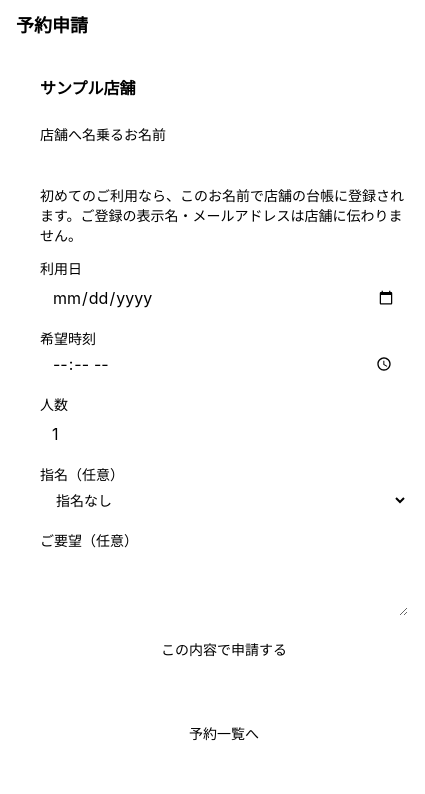
it: MemberReservationNewPage › 利用日を消したら、前の日の取得失敗が送信を塞いだままにならない
Type "2026-08-10" into the date field labelled "利用日" at coordinates (224, 298), box [40,280,408,316]
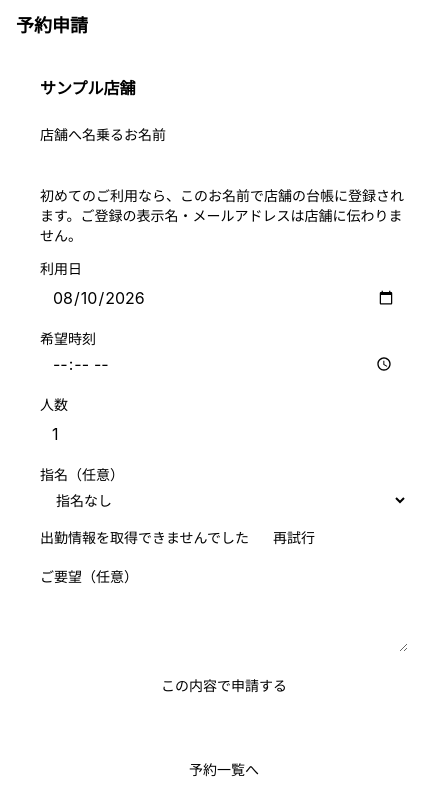
Now the text "出勤情報を取得できませんでした" is shown, box [40,528,249,548]
Now the button "この内容で申請する" is disabled, box [40,668,408,704]
Clear the date field labelled "利用日" at coordinates (224, 298), box [40,280,408,316]
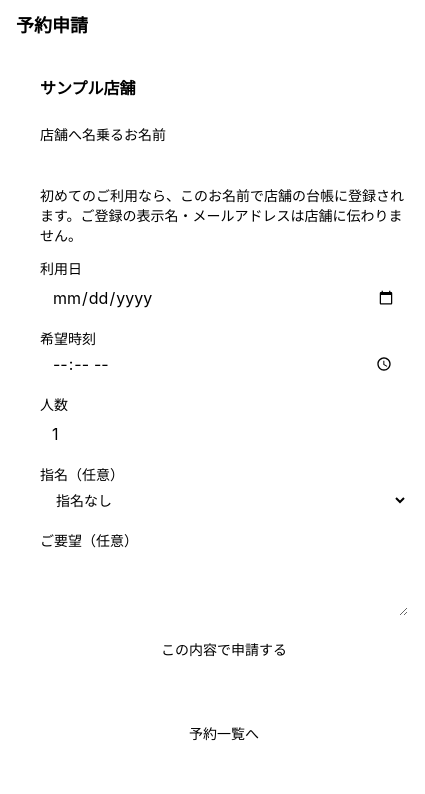
Now the button "この内容で申請する" is enabled, box [40,632,408,668]
Now the text "出勤情報を取得できませんでした" is gone
